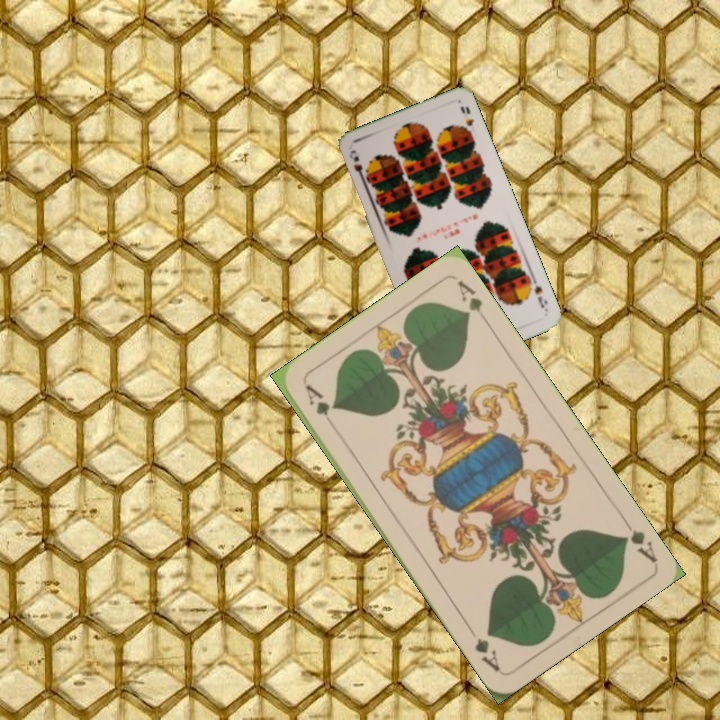GA: (617, 513, 660, 565), (301, 380, 333, 418)
S9: (529, 275, 550, 314), (349, 152, 371, 185)
